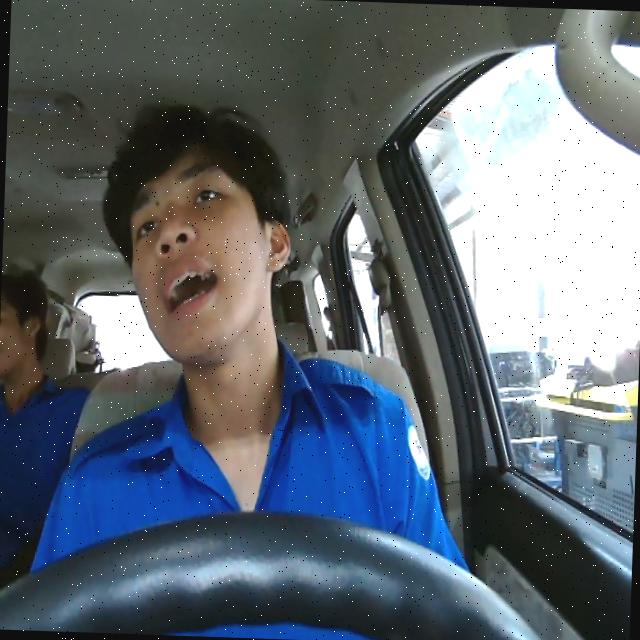yarning: (122, 144, 292, 362)
